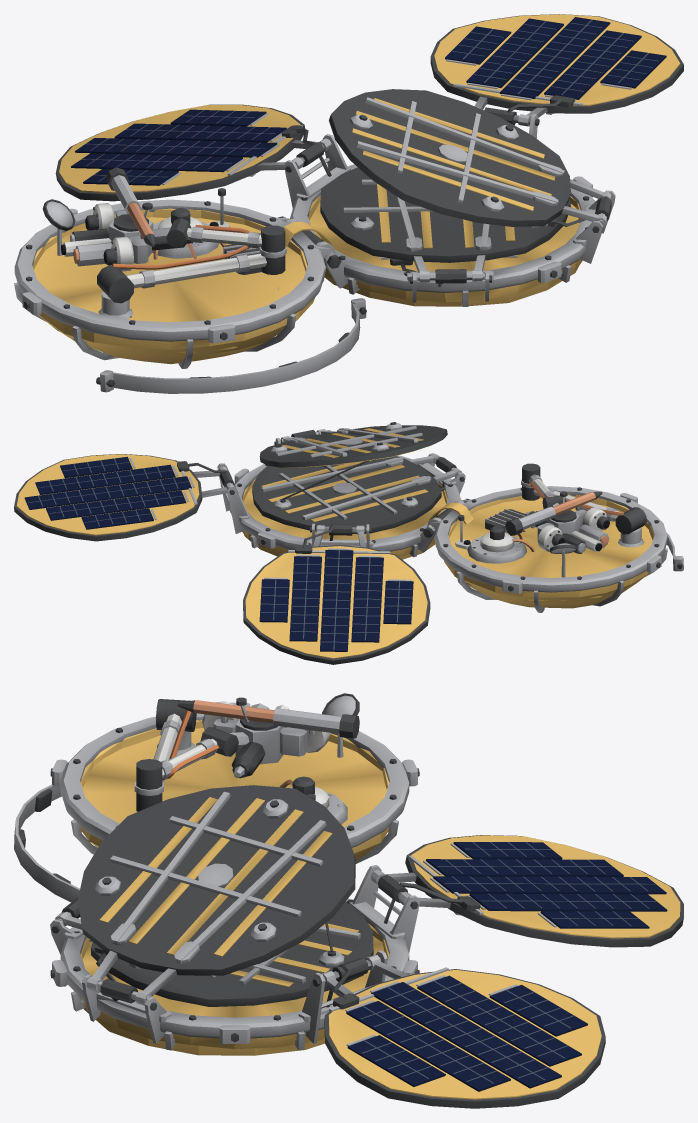
File: beagle2.glb
3 views of the same model, one above another, from view 1: azimuth 30°, elevation 25°; view 2: azimuth 150°, elevation 25°; view 3: azimuth 270°, elevation 25° (orthographic). The views are drawn at different scales.
Visible parts, largest first — view 1: beagle2_mesh; view 2: beagle2_mesh; view 3: beagle2_mesh.
Part boxes in pixels (x1,y1,x2,y2): beagle2_mesh: [14, 14, 683, 393]; beagle2_mesh: [14, 422, 683, 664]; beagle2_mesh: [14, 693, 683, 1108].
Size of the model in its own units: 1.88 by 0.3638 by 1.31.
